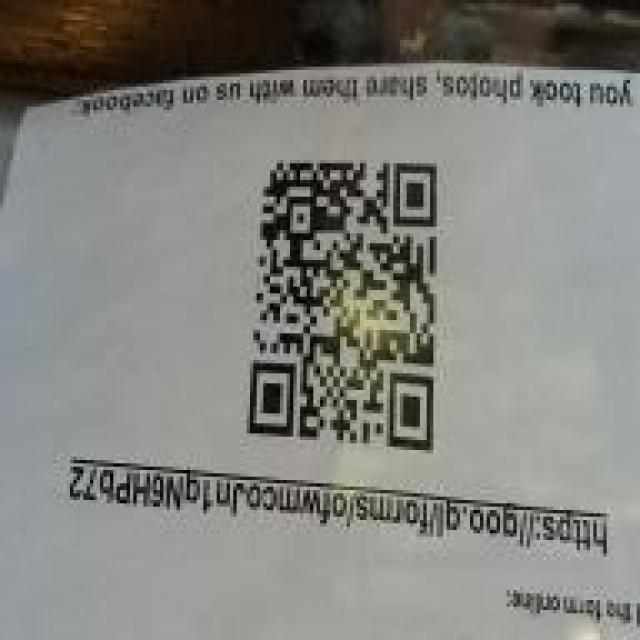QR_CODE: (238, 135, 450, 477)
